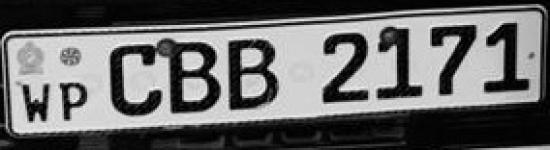1: (429, 18, 482, 100), (375, 22, 425, 105), (483, 16, 534, 96)
2: (318, 29, 374, 108)
B: (225, 36, 286, 114), (169, 39, 225, 117)
P: (101, 40, 165, 122), (58, 80, 93, 123)
W: (17, 80, 57, 125)
